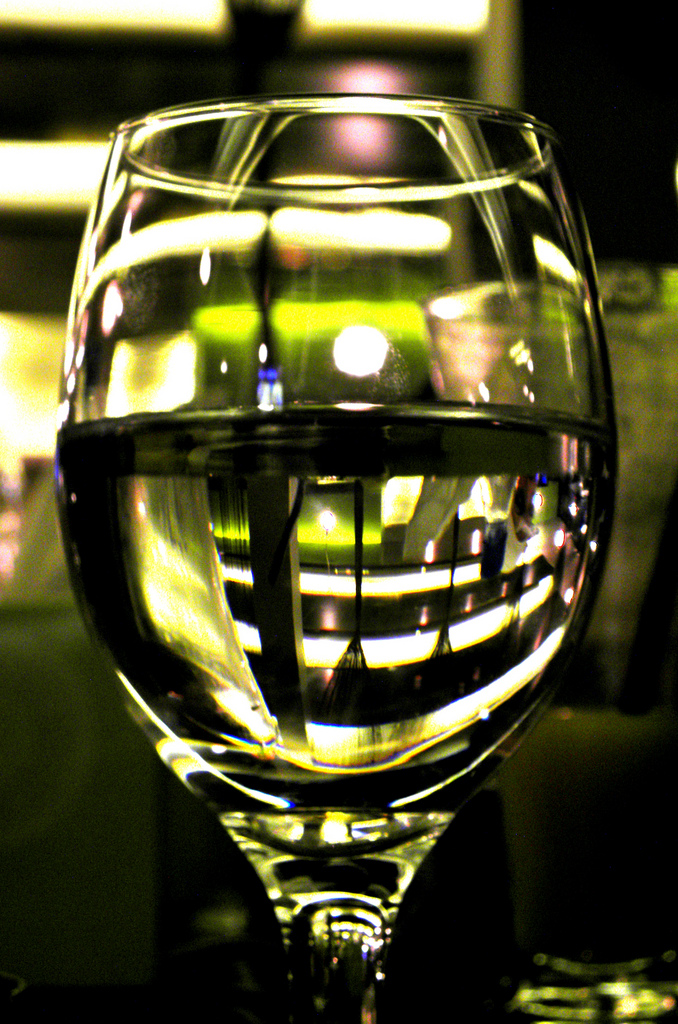glass of water: (48, 93, 584, 1010)
